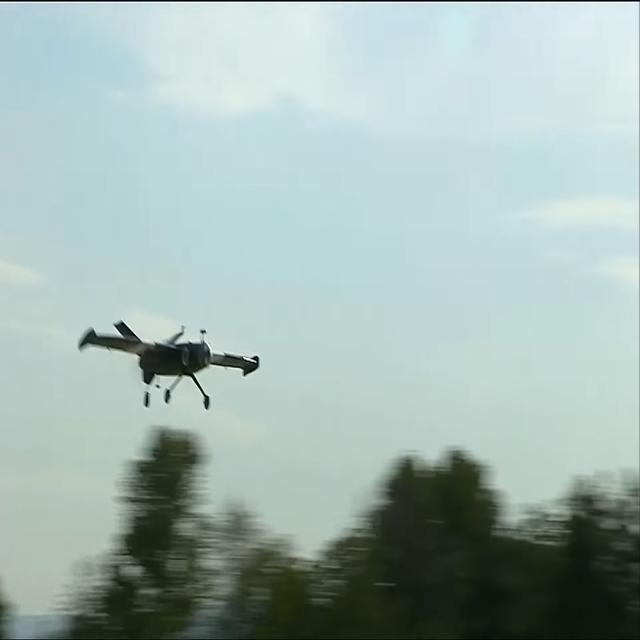iha: (75, 349, 261, 378)
